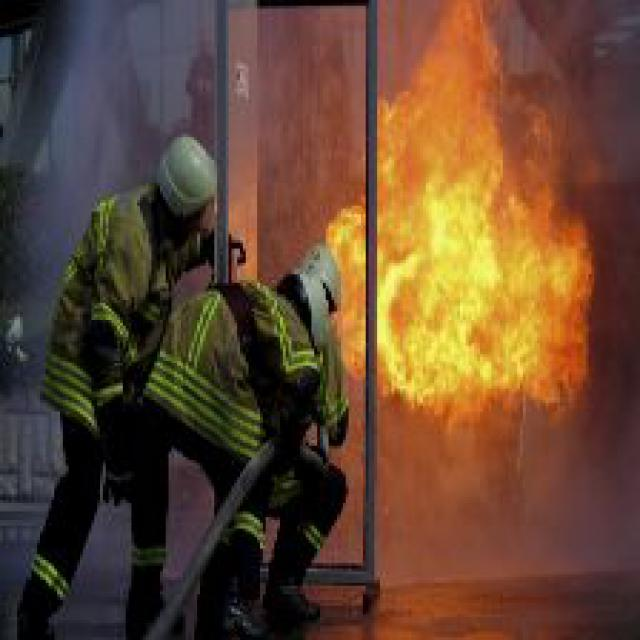fire: (323, 6, 600, 423)
